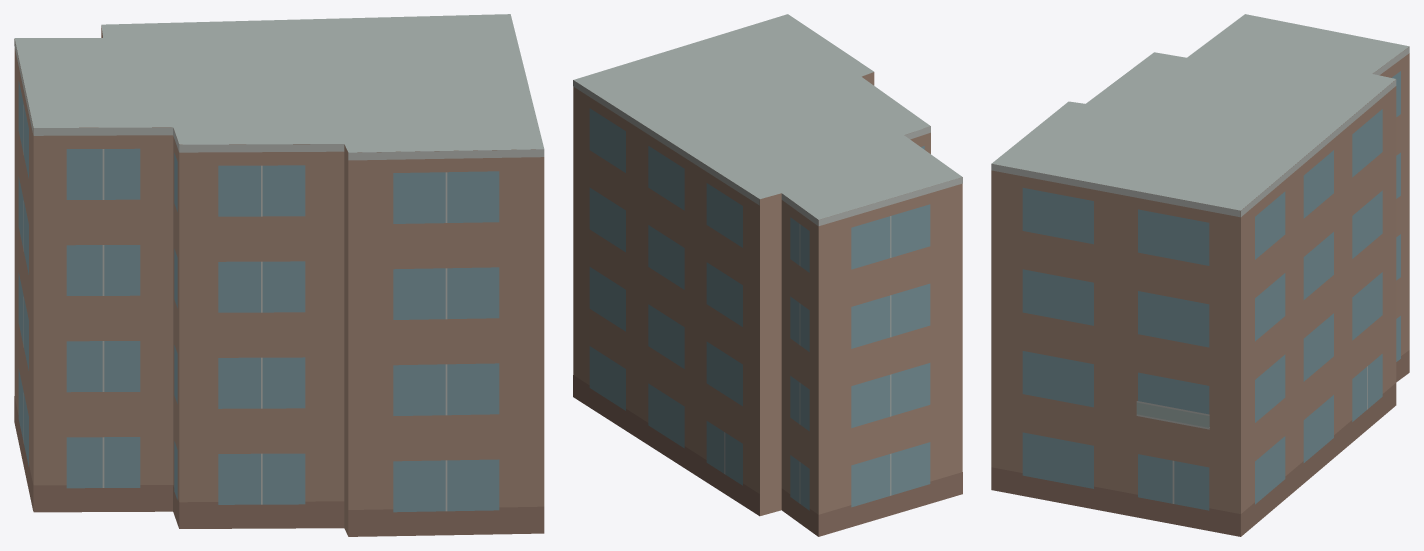
File: survey-upis-32801836.glb
3 renders of one model, left to right at view 1: azimuth 30°, elevation 25°; view 2: azimuth 150°, elevation 25°; view 3: azimuth 270°, elevation 25°, orthographic. The views are drawn at different scales.
Visible parts, largest first — view 1: survey-upis-32801836.tmp; view 2: survey-upis-32801836.tmp; view 3: survey-upis-32801836.tmp.
Boxes of the visible parts, x1=… form: survey-upis-32801836.tmp: x1=14, y1=14, x2=544, y2=536; survey-upis-32801836.tmp: x1=573, y1=14, x2=962, y2=536; survey-upis-32801836.tmp: x1=991, y1=14, x2=1409, y2=536.
Bounding box in the file's own units: 15.39 × 11.9 × 13.84.
